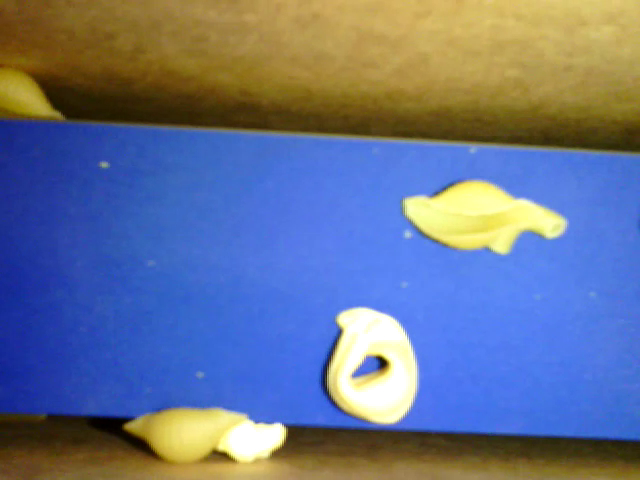elbow: (486, 196, 568, 259)
shell: (402, 177, 532, 255), (124, 403, 249, 462), (3, 66, 72, 125)
tortellini: (319, 306, 423, 425)
